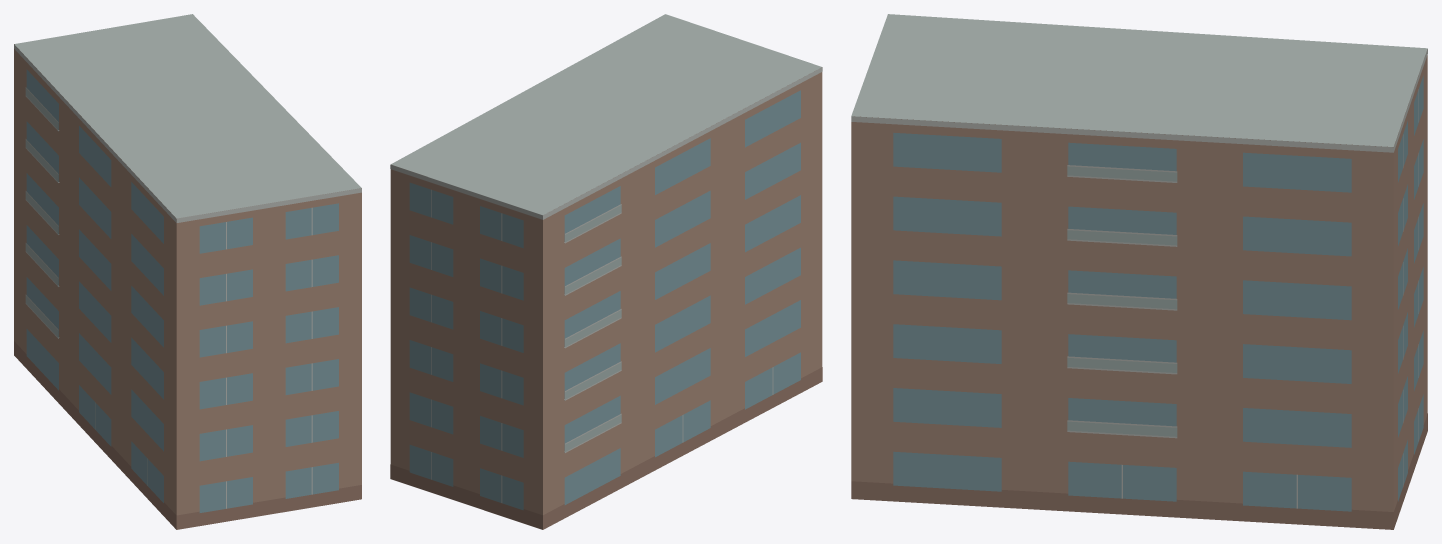
Rendered from survey-upis-32668059.glb.
3 renders of one model, left to right at view 1: azimuth 30°, elevation 25°; view 2: azimuth 150°, elevation 25°; view 3: azimuth 270°, elevation 25°, orthographic. The views are drawn at different scales.
Visible parts, largest first — view 1: survey-upis-32668059.tmp; view 2: survey-upis-32668059.tmp; view 3: survey-upis-32668059.tmp.
Part boxes in pixels (box(x1,y1,x2,y2)): survey-upis-32668059.tmp: box(14, 14, 361, 529); survey-upis-32668059.tmp: box(390, 14, 822, 529); survey-upis-32668059.tmp: box(851, 14, 1427, 529).
Bounding box in the file's own units: 12.39 × 16.6 × 22.67.
